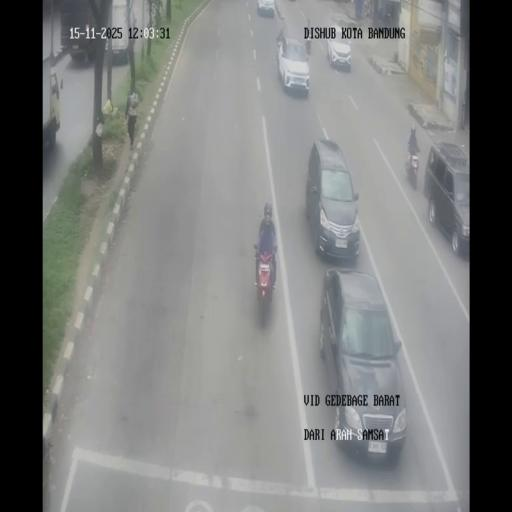3: (41, 30, 62, 154), (59, 1, 96, 64)
car: (320, 270, 405, 461), (306, 138, 360, 261), (423, 141, 470, 253), (276, 31, 310, 96), (107, 1, 132, 64), (326, 28, 352, 72), (256, 0, 274, 17)
truck: (253, 240, 277, 318), (405, 140, 420, 189), (304, 21, 312, 54), (276, 39, 281, 64)
